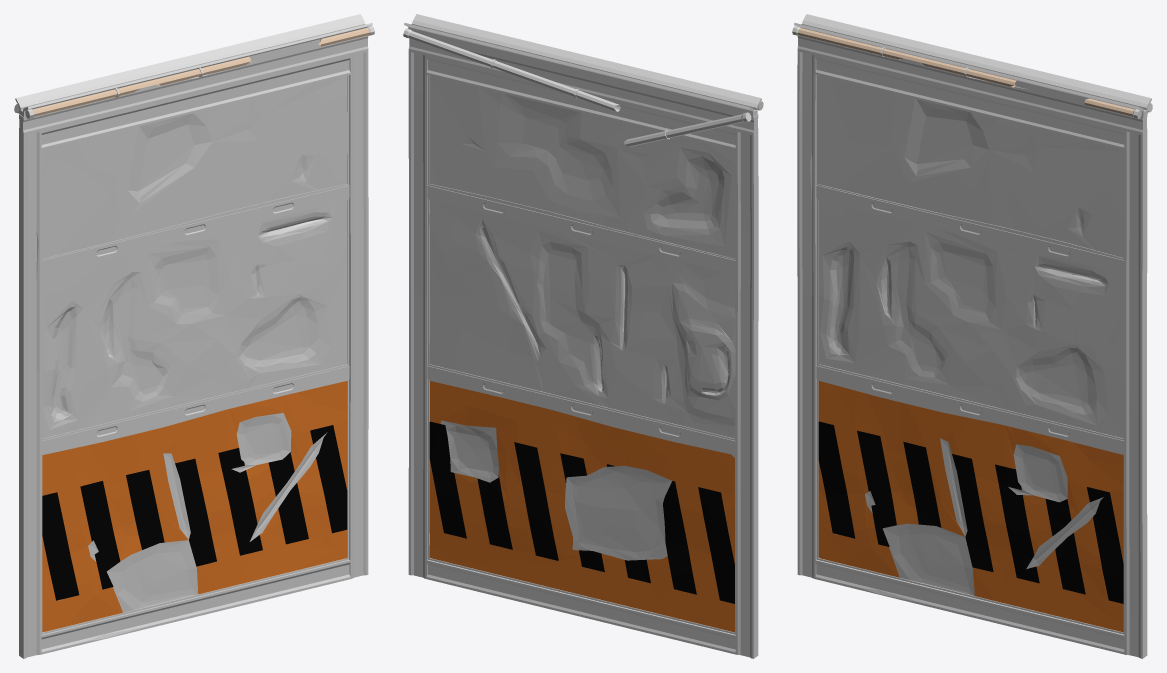
File: SM_Wall_Broken_04.glb
3 views of the same model, side by side, from view 1: azimuth 30°, elevation 25°; view 2: azimuth 150°, elevation 25°; view 3: azimuth 330°, elevation 25° (orthographic).
Visible parts, largest first — view 1: SM_Wall_Broken_04; view 2: SM_Wall_Broken_04; view 3: SM_Wall_Broken_04.
Boxes of the visible parts, box(x1,y1,x2,y2) form: SM_Wall_Broken_04: box(14, 14, 374, 658); SM_Wall_Broken_04: box(403, 14, 763, 658); SM_Wall_Broken_04: box(792, 14, 1152, 658).
Size of the model in its own units: 2 by 3.07 by 0.166.
